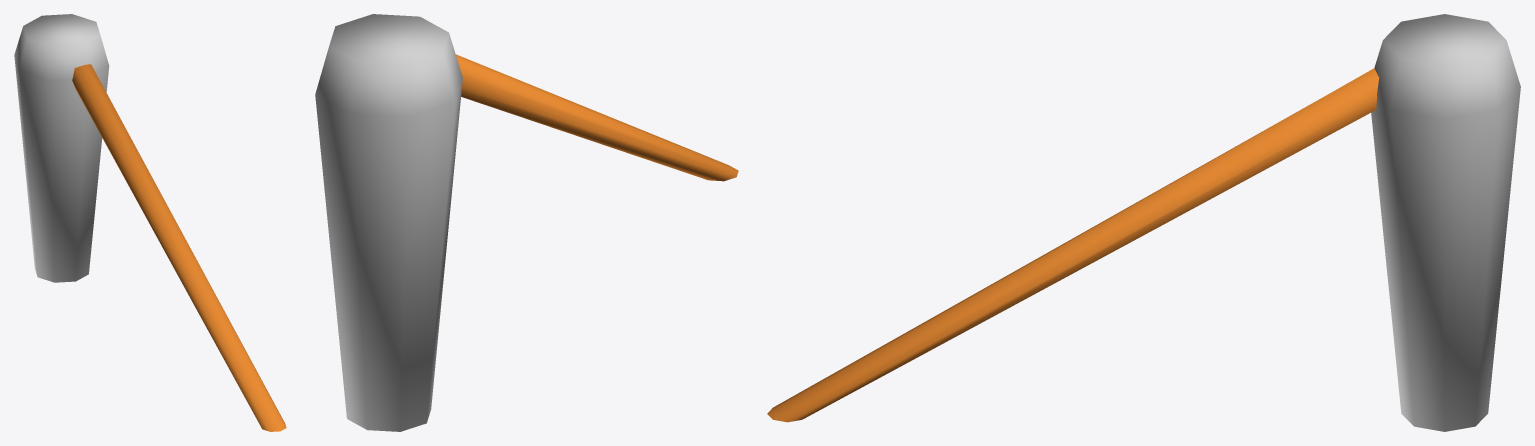
File: rope.glb
The picture shows the model from 3 angles, left to right: view 1: azimuth 30°, elevation 25°; view 2: azimuth 150°, elevation 25°; view 3: azimuth 270°, elevation 25°; orthographic projection. The views are drawn at different scales.
Parts seen in each view (by area): view 1: Peg, Rope; view 2: Peg, Rope; view 3: Peg, Rope.
Boxes of the visible parts, x1,y1,x2,y2 form: Peg: [14, 14, 109, 282]; Rope: [72, 64, 286, 431]; Peg: [315, 14, 462, 431]; Rope: [456, 54, 738, 181]; Peg: [1371, 14, 1520, 431]; Rope: [767, 68, 1379, 422].
Bounding box in the file's own units: 0.074 × 0.2 × 0.3659.
